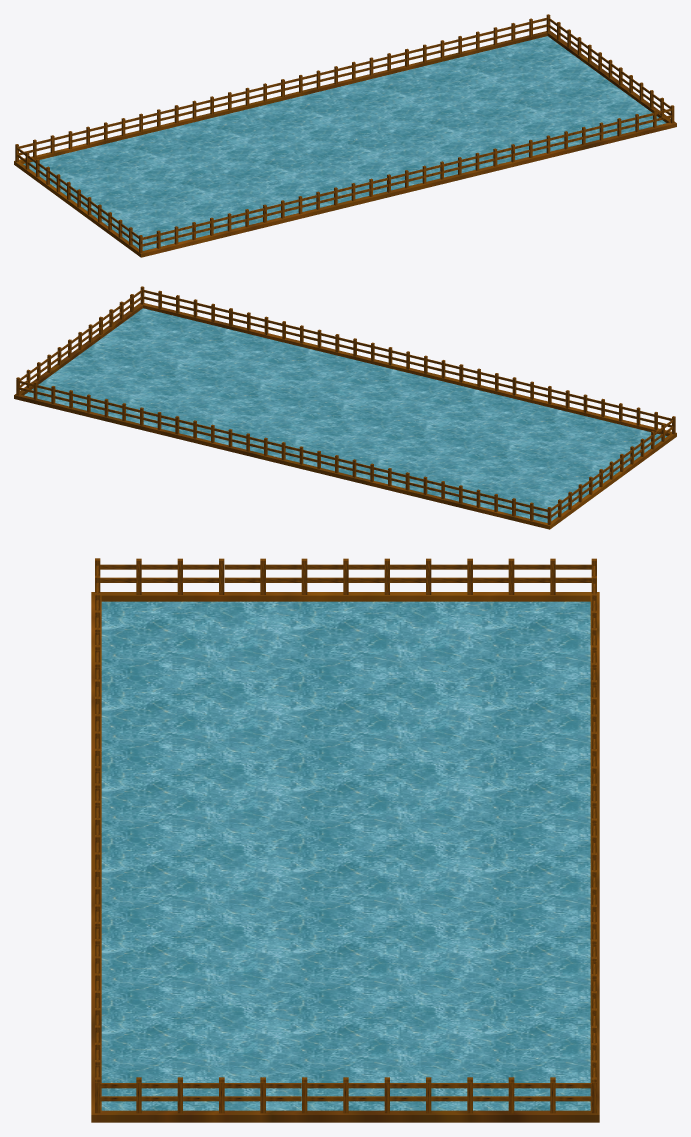
File: pool.gltf
3 views of the same model, one above another, from view 1: azimuth 30°, elevation 25°; view 2: azimuth 150°, elevation 25°; view 3: azimuth 270°, elevation 25° (orthographic). The views are drawn at different scales.
Parts seen in each view (by area): view 1: Lo-Body_01; view 2: Lo-Body_01; view 3: Lo-Body_01.
Part boxes in pixels (x1,y1,x2,y2): Lo-Body_01: [14, 14, 676, 257]; Lo-Body_01: [14, 286, 676, 529]; Lo-Body_01: [91, 558, 599, 1122].
Size of the model in its own units: 34.3 by 1.26 by 14.09.
2 materials, 2 textured.
